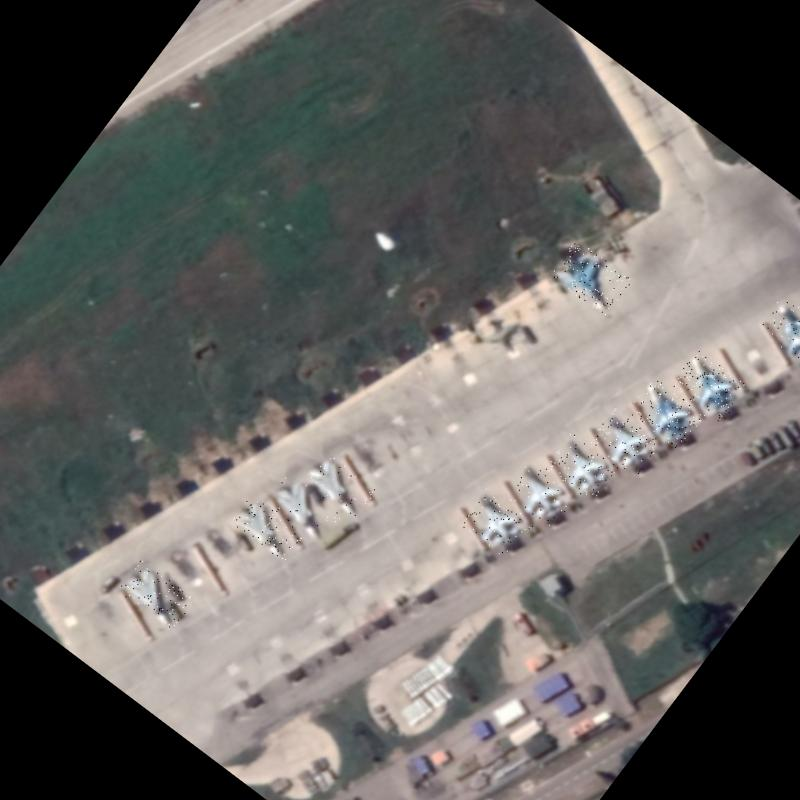A1: (458, 488, 534, 560), (544, 432, 618, 504), (588, 408, 662, 477), (504, 461, 576, 531)
A19: (548, 239, 632, 318), (670, 348, 750, 425), (627, 376, 705, 450), (756, 294, 800, 368)
A20: (265, 470, 345, 545), (116, 560, 196, 634), (300, 448, 378, 520), (230, 494, 305, 562)
